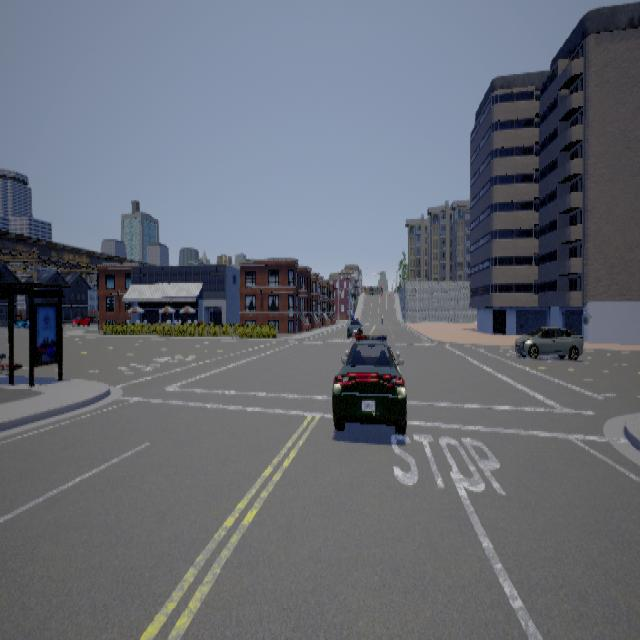vehicle: (331, 316, 406, 434), (514, 325, 583, 359)
